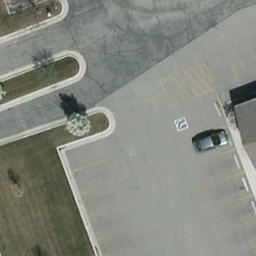car: (190, 130, 231, 156)
